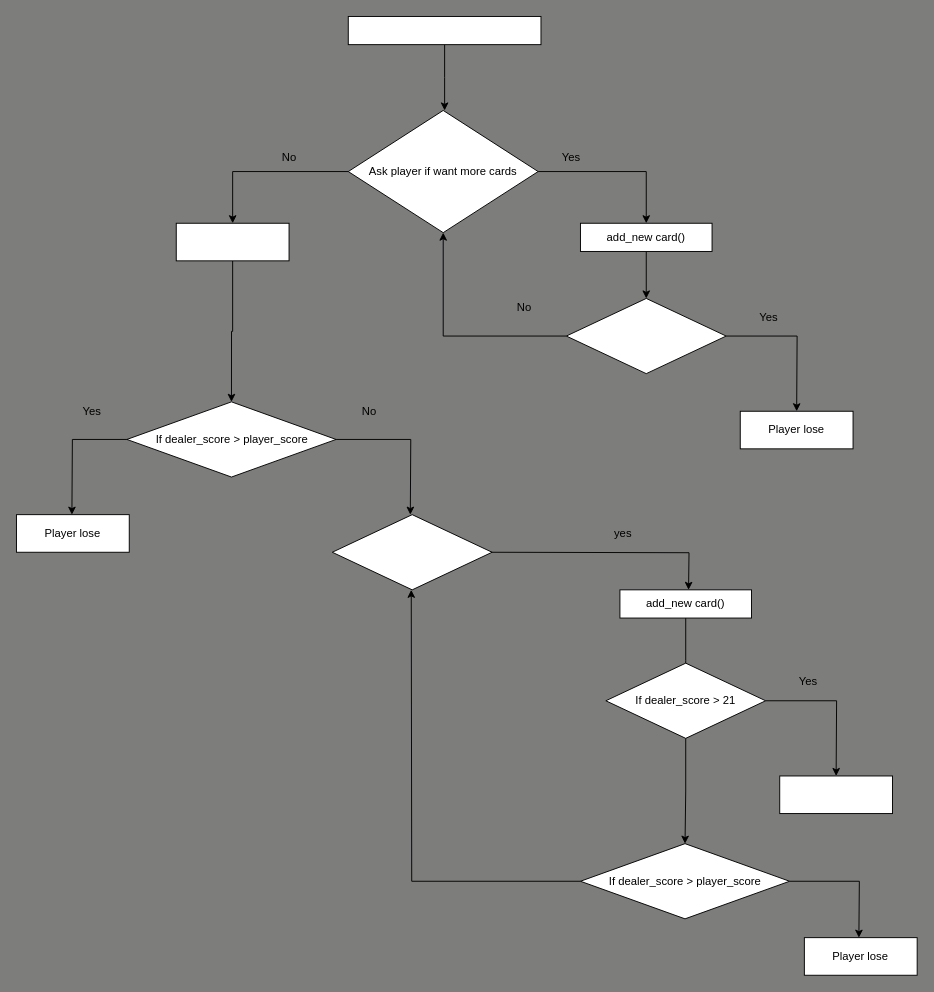
Some shapes in this 934 by 992 pixel diagram are drawn without their labels. Here are the shapes that lost their labels. From the top down, the centre of each, then its label:
[444,30]: initial_hands()
[232,241]: Save player score
[645,336]: If sum of cards > 21
[411,552]: if dealer_score < 17
[836,794]: Player win
